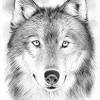Lobo: (5, 1, 97, 96)
